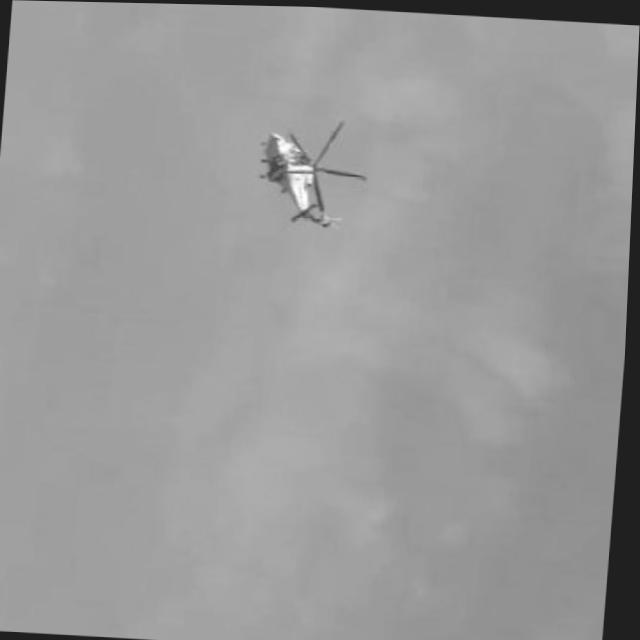helikopter: (256, 117, 374, 229)
